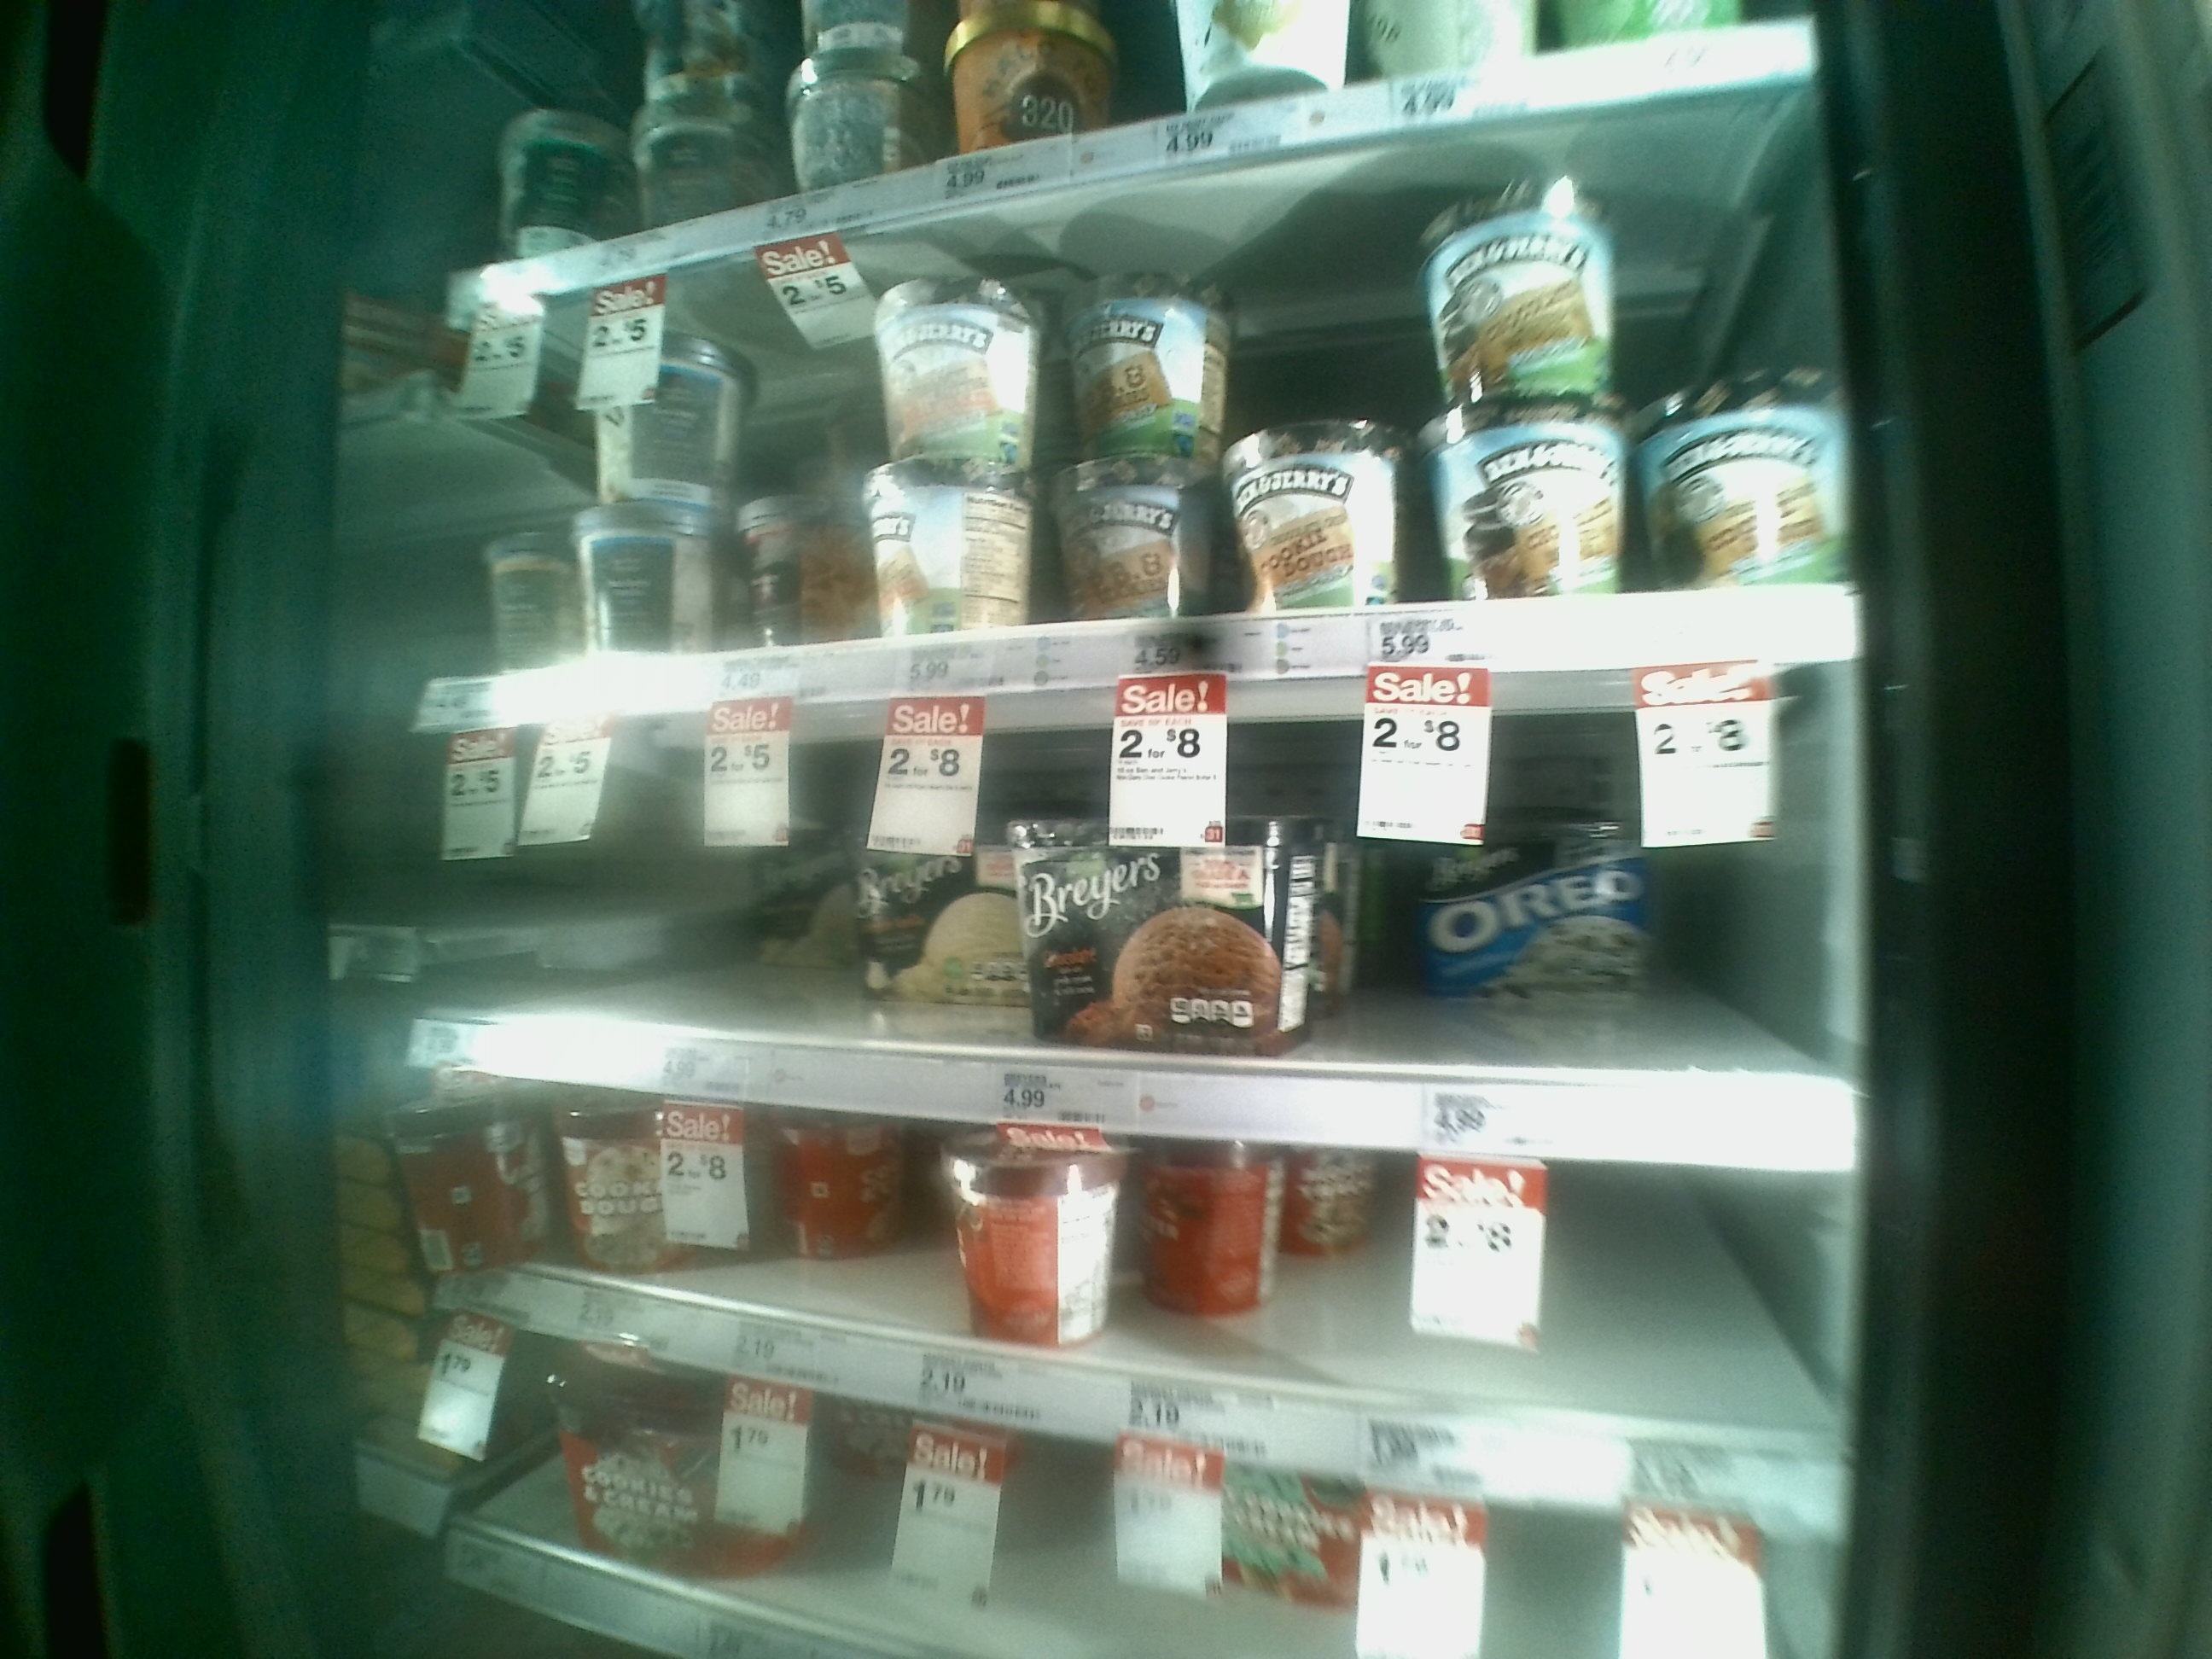shelf: (421, 82, 1855, 753), (428, 664, 1857, 1178), (411, 1063, 1857, 1527)
